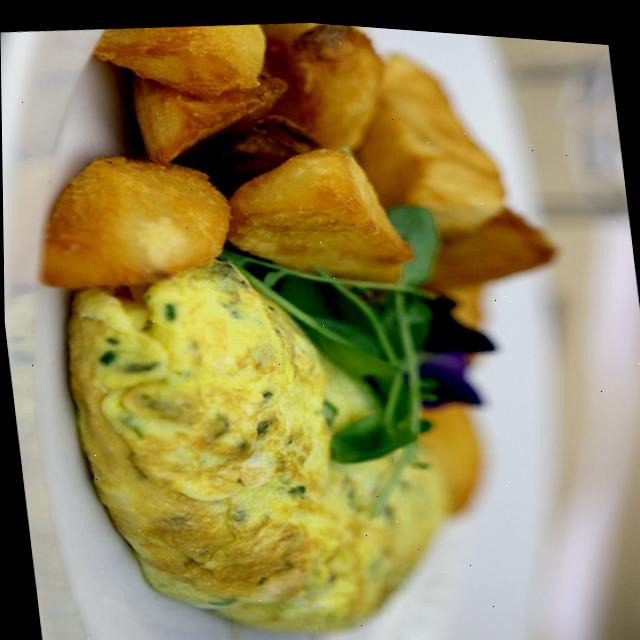鸡蛋料理: (40, 234, 480, 640)
